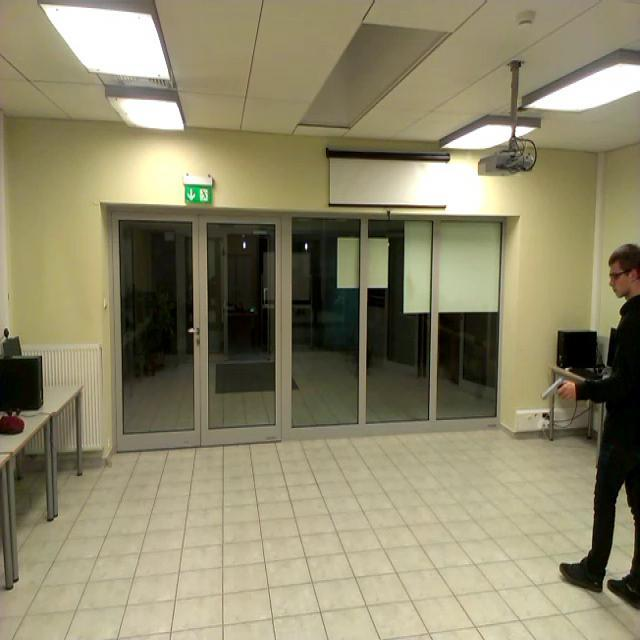Gun: (542, 376, 572, 399)
